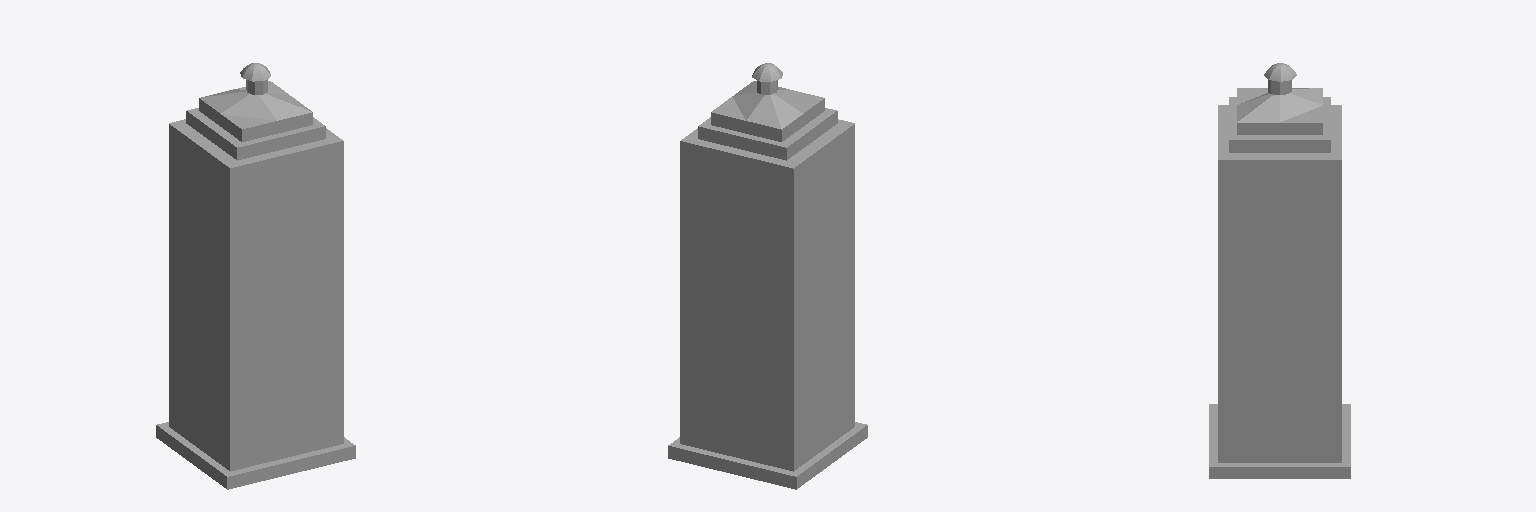
The model's file is tardis.obj.
3 views of the same model, side by side, from view 1: azimuth 30°, elevation 25°; view 2: azimuth 150°, elevation 25°; view 3: azimuth 270°, elevation 25° (orthographic).
Visible parts, largest first — view 1: Tardis1; view 2: Tardis1; view 3: Tardis1.
Part boxes in pixels (x1,y1,x2,y2): Tardis1: (156,63,355,489); Tardis1: (668,63,867,489); Tardis1: (1209,63,1350,478).
Size of the model in its own units: 2.91 by 8.32 by 2.8.